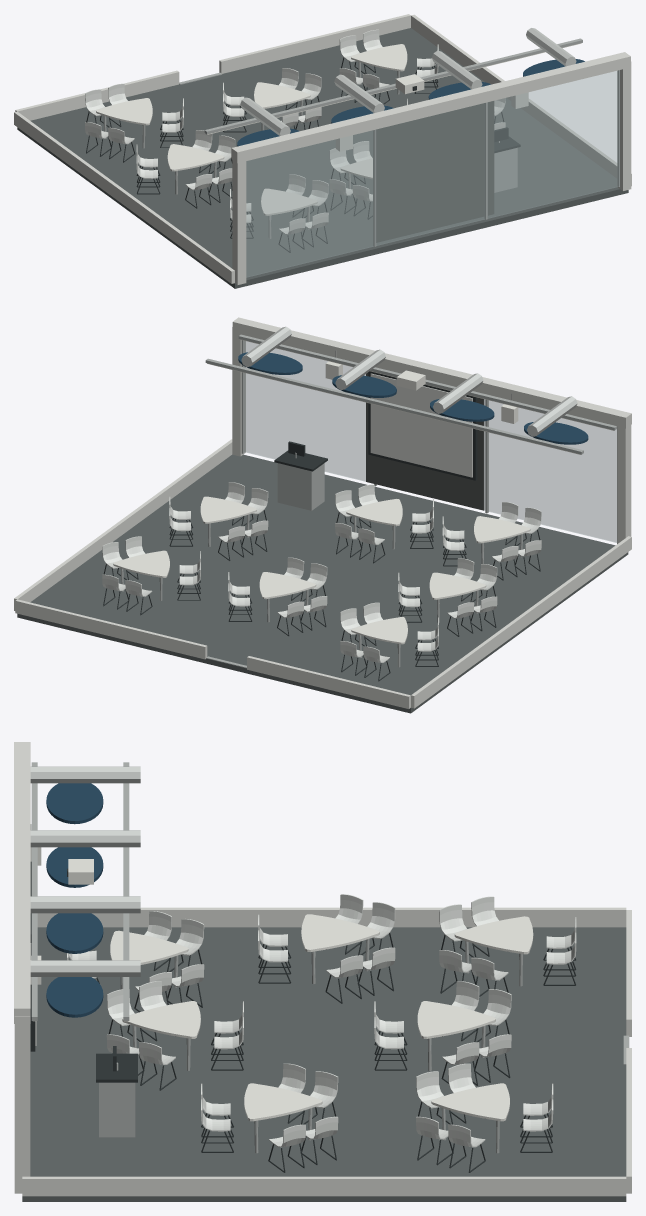
The model's file is cbg-104-interior-69a154e2e45c.glb.
The picture shows the model from 3 angles, top to bottom: view 1: azimuth 30°, elevation 25°; view 2: azimuth 150°, elevation 25°; view 3: azimuth 270°, elevation 25°; orthographic projection. The views are drawn at different scales.
Visible parts, largest first — view 1: cbg-104; view 2: cbg-104; view 3: cbg-104.
Part boxes in pixels (<box>): cbg-104: <box>14,14,631,288</box>; cbg-104: <box>14,317,631,713</box>; cbg-104: <box>14,742,631,1201</box>.
Size of the model in its own units: 11.5 by 4.04 by 11.07.
